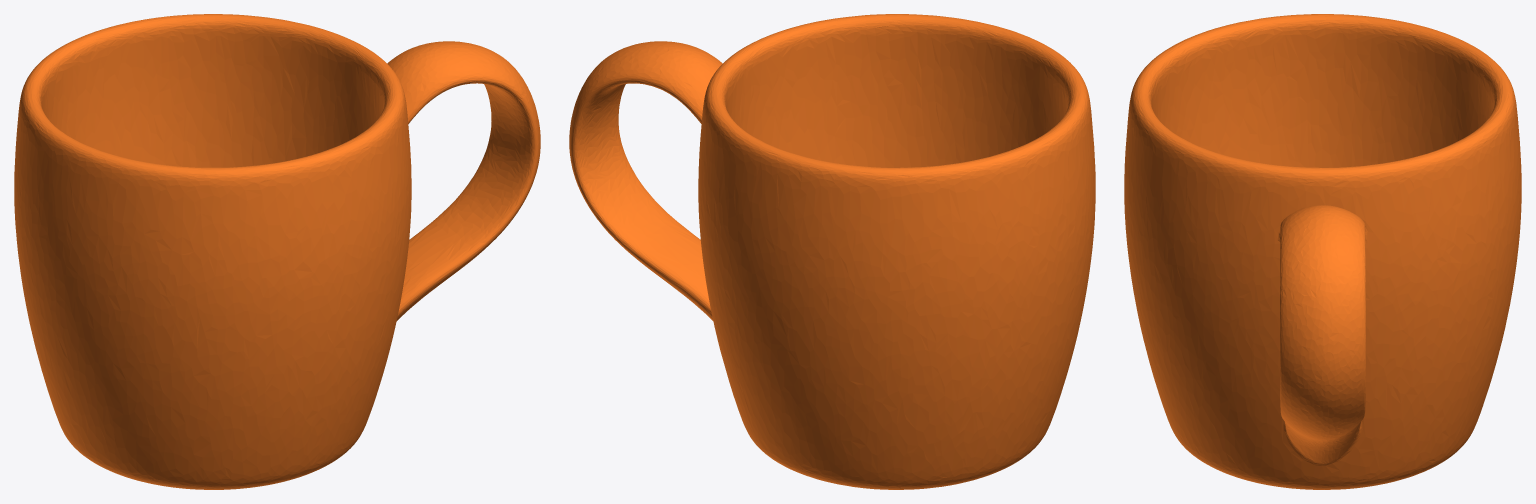
Rendered from Caneca.glb.
3 views of the same model, side by side, from view 1: azimuth 30°, elevation 25°; view 2: azimuth 150°, elevation 25°; view 3: azimuth 270°, elevation 25° (orthographic).
Bounding box in the file's own units: 0.1499 × 0.0998 × 0.1047.
